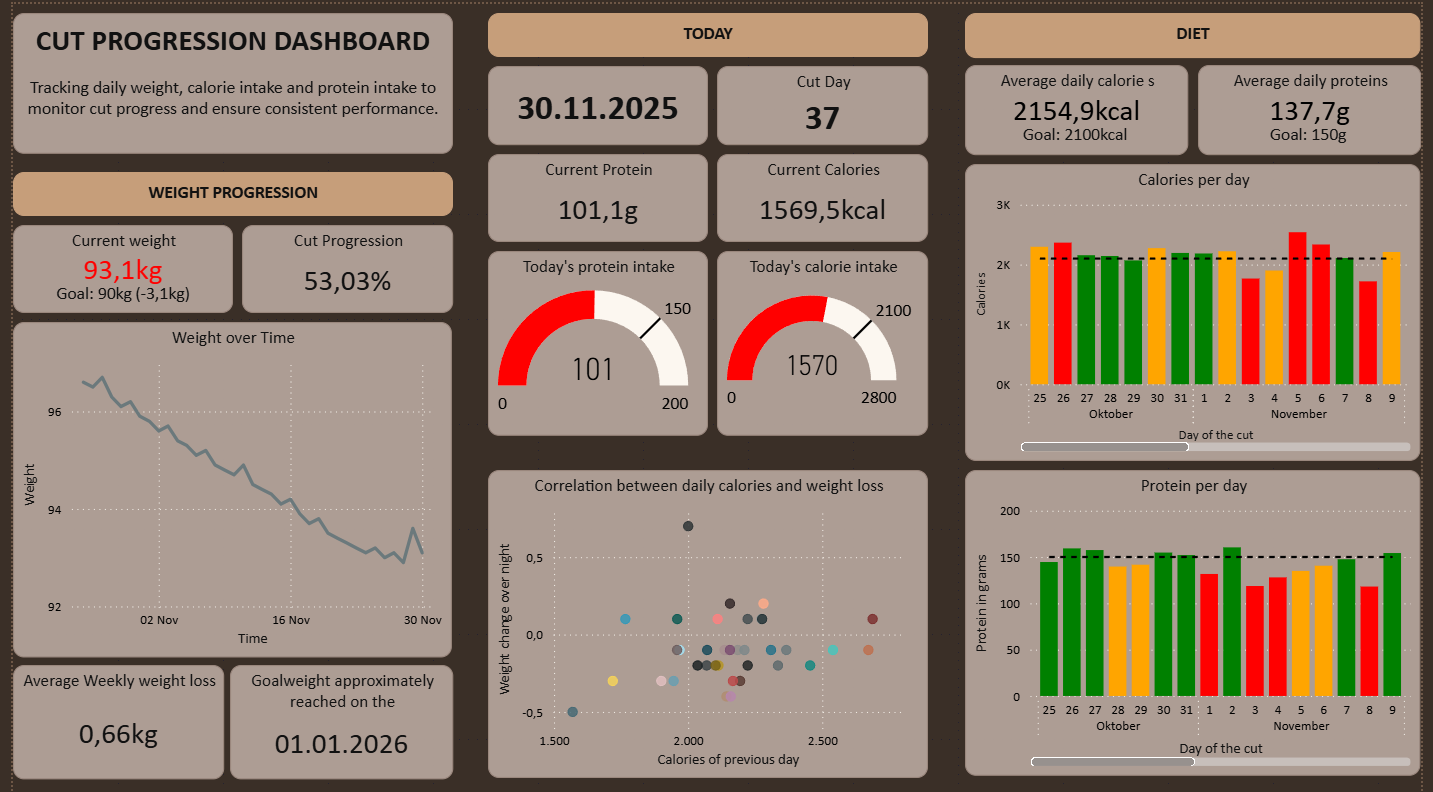

The page's visual inventory and layout, read from the dashboard file:
{"tool":"powerbi","page":{"name":"Seite 1","canvas":[1280,720],"ordinal":0},"visuals":[{"type":"textbox","box":[432,8,400,40],"z":0,"group":"g6"},{"type":"textbox","box":[865.5,8.2,414.4,40.9],"z":0,"group":"g2"},{"type":"textbox","box":[0,152.7,400,40],"z":0,"group":"g1"},{"type":"lineChart","title":"Weight over Time","fields":{"Y":["Avg(TrackedDaysRange.WEIGHT)"],"Category":["TrackedDaysRange.DATE.Variation.Datumshierarchie.Jahr","TrackedDaysRange.DATE.Variation.Datumshierarchie.Quartal","TrackedDaysRange.DATE.Variation.Datumshierarchie.Monat","TrackedDaysRange.DATE.Variation.Datumshierarchie.Tag"]},"box":[0,288.7,399,304.6],"z":0,"group":"g4"},{"type":"scatterChart","title":"title","fields":{"X":["Tracked Days.CALORIES"],"Y":["Tracked Days.DeltaWeight"],"Series":["Tracked Days.DATE"]},"box":[432,424,400,280],"z":0},{"type":"textbox","box":[0,8,400,128],"z":1000},{"type":"card","fields":{"Values":["Tracked Days.TodaysDate"]},"box":[432,56,200,72],"z":1000,"group":"g7"},{"type":"group","id":"g1","title":"Group 3","box":[0,152.7,400,552],"z":2000},{"type":"group","id":"g2","title":"Group 4","box":[865.5,8.2,414.5,694.5],"z":3000},{"type":"group","id":"g3","title":"Group 7","box":[432,8,400,384],"z":4000},{"type":"group","id":"g4","title":"Group 1","box":[0,288.7,400,416],"z":4001,"group":"g1"},{"type":"card","title":"Current Protein","fields":{"Values":["Tracked Days.CurrentProtein"]},"box":[432,136,200,80],"z":6000,"group":"g6"},{"type":"card","title":"Current Calories","fields":{"Values":["Tracked Days.CurrentCalories"]},"box":[640,136,192,80],"z":7000,"group":"g6"},{"type":"gauge","title":"Today''s calorie intake","fields":{"Y":["Tracked Days.CurrentCalories"],"TargetValue":["Max(Goals.GOAL CALORIES)"],"MaxValue":["Goals.CalorieCeiling"]},"box":[640,224,192,168],"z":8000,"group":"g6"},{"type":"gauge","title":"Today''s protein intake","fields":{"Y":["Tracked Days.CurrentProtein"],"MaxValue":["Goals.ProteinCeiling"],"TargetValue":["Max(Goals.GOAL PROTEIN)"]},"box":[432,224,200,168],"z":9000,"group":"g6"},{"type":"card","title":"Cut Day","fields":{"Values":["Tracked Days.CutDay"]},"box":[640,56,192,72],"z":10000,"group":"g7"},{"type":"card","title":"Goalweight approximately reached on the","fields":{"Values":["Tracked Days.GoalReachedDayCompact"]},"box":[197.1,600.7,202.9,104],"z":12000,"group":"g4"},{"type":"kpi","title":"Current weight","fields":{"Goal":["Sum(Goals.GOAL WEIGHT)"],"TrendLine":["Tracked Days.DATE"],"Indicator":["Tracked Days.CurrentWeight"]},"box":[0,200.7,200,80],"z":13000,"group":"g1"},{"type":"group","id":"g5","title":"Group 2","box":[865.5,55.9,414.5,646.9],"z":14000,"group":"g2"},{"type":"kpi","title":"Average daily calorie s","fields":{"Indicator":["Calculations.AVGCaloriesPerDay"],"Goal":["Max(Goals.GOAL CALORIES)"],"TrendLine":["Tracked Days.DATE"]},"box":[865.6,55.9,203.1,81.9],"z":14000,"group":"g5"},{"type":"kpi","title":"Average daily proteins","fields":{"Indicator":["Calculations.AVGProteinPerDay"],"Goal":["Max(Goals.GOAL PROTEIN)"],"TrendLine":["Tracked Days.DATE"]},"box":[1076.9,55.9,203.1,81.9],"z":15000,"group":"g5"},{"type":"group","id":"g6","title":"Group 5","box":[432,8,400,384],"z":15003,"group":"g7"},{"type":"group","id":"g7","title":"Group 6","box":[432,8,400,384],"z":15004,"group":"g3"},{"type":"card","title":"Cut Progression","fields":{"Values":["Tracked Days.WeightProgressPercent"]},"box":[208,200.7,192,80],"z":16000,"group":"g1"},{"type":"lineStackedColumnComboChart","title":"Calories per day","fields":{"Category":["Tracked Days.DATE.Variation.Datumshierarchie.Monat","Tracked Days.DATE.Variation.Datumshierarchie.Tag"],"Y":["Max(Tracked Days.CALORIES)"],"Y2":["Max(Goals.GOAL CALORIES)"]},"box":[865.5,146,414.4,270.2],"z":17000,"group":"g5"},{"type":"lineStackedColumnComboChart","title":"Protein per day","fields":{"Category":["Tracked Days.DATE.Variation.Datumshierarchie.Monat","Tracked Days.DATE.Variation.Datumshierarchie.Tag"],"Y":["Sum(Tracked Days.PROTEIN)"],"Y2":["Max(Goals.GOAL PROTEIN)"]},"box":[865.5,424.4,414.4,278.4],"z":18000,"group":"g5"},{"type":"card","title":"Average Weekly weight loss","fields":{"Values":["Tracked Days.WeeklyLossRate"]},"box":[0,600.7,192,104],"z":19000,"group":"g1"}]}

Visuals, with their boxes in screenshot pixels (x1, y1, x2, y2), scaled from the page's 1280x720 canvas onto the 1433x792 screenshot:
textbox: locate(484, 9, 931, 53)
textbox: locate(969, 9, 1432, 54)
textbox: locate(0, 168, 448, 212)
"Weight over Time" lineChart: locate(0, 318, 447, 653)
"title" scatterChart: locate(484, 466, 931, 774)
textbox: locate(0, 9, 448, 150)
card - Tracked Days.TodaysDate: locate(484, 62, 708, 141)
"Group 3" group: locate(0, 168, 448, 775)
"Group 4" group: locate(969, 9, 1432, 773)
"Group 7" group: locate(484, 9, 931, 431)
"Group 1" group: locate(0, 318, 448, 775)
"Current Protein" card: locate(484, 150, 708, 238)
"Current Calories" card: locate(716, 150, 931, 238)
"Today''s calorie intake" gauge: locate(716, 246, 931, 431)
"Today''s protein intake" gauge: locate(484, 246, 708, 431)
"Cut Day" card: locate(716, 62, 931, 141)
"Goalweight approximately reached on the" card: locate(221, 661, 448, 775)
"Current weight" kpi: locate(0, 221, 224, 309)
"Group 2" group: locate(969, 61, 1432, 773)
"Average daily calorie s" kpi: locate(969, 61, 1196, 152)
"Average daily proteins" kpi: locate(1206, 61, 1432, 152)
"Group 5" group: locate(484, 9, 931, 431)
"Group 6" group: locate(484, 9, 931, 431)
"Cut Progression" card: locate(233, 221, 448, 309)
"Calories per day" lineStackedColumnComboChart: locate(969, 161, 1432, 458)
"Protein per day" lineStackedColumnComboChart: locate(969, 467, 1432, 773)
"Average Weekly weight loss" card: locate(0, 661, 215, 775)
